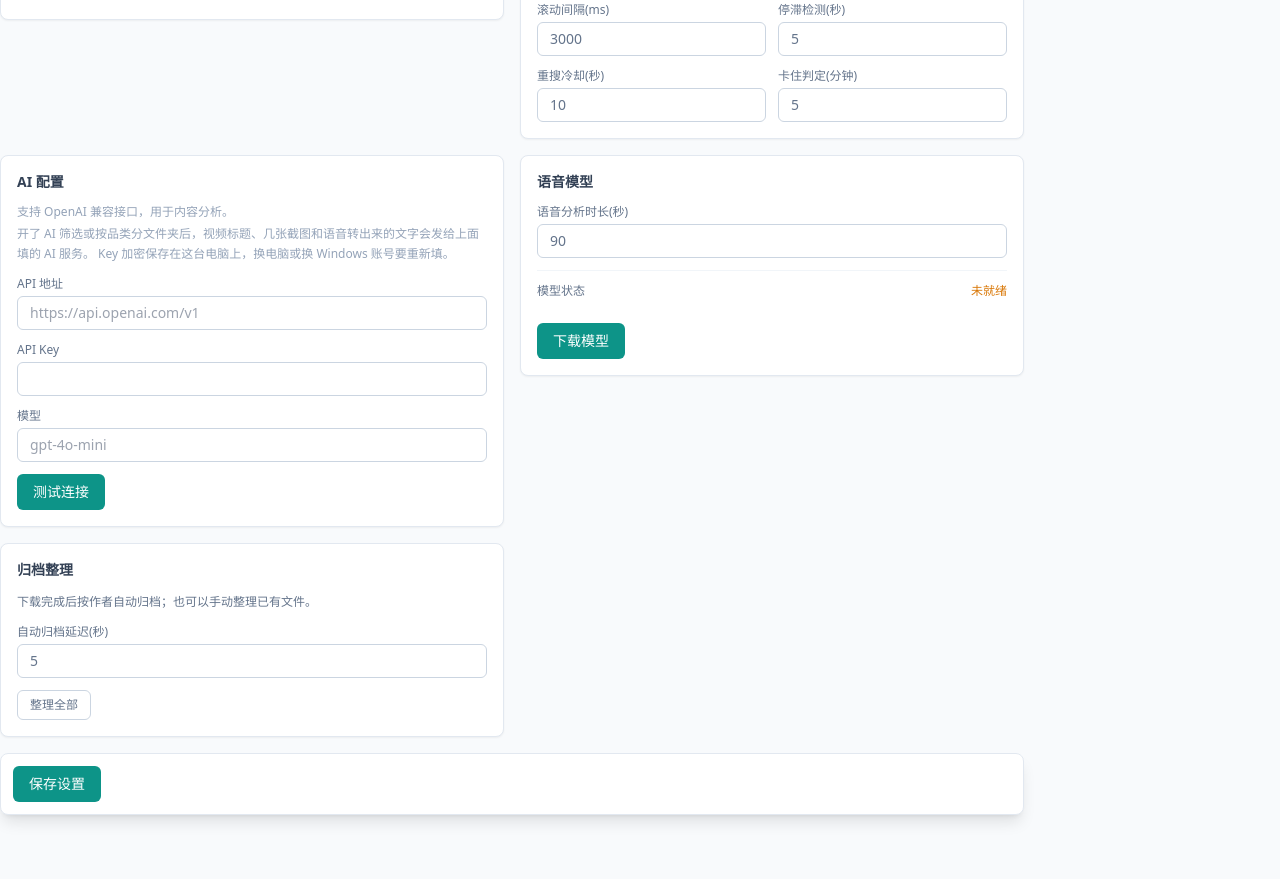
it: SettingsPanel 消息的成功/失败配色 › AI 连接正常 → 用成功色
(page scrolled)
Click the button "测试连接": (61, 492) [17,474,105,510]
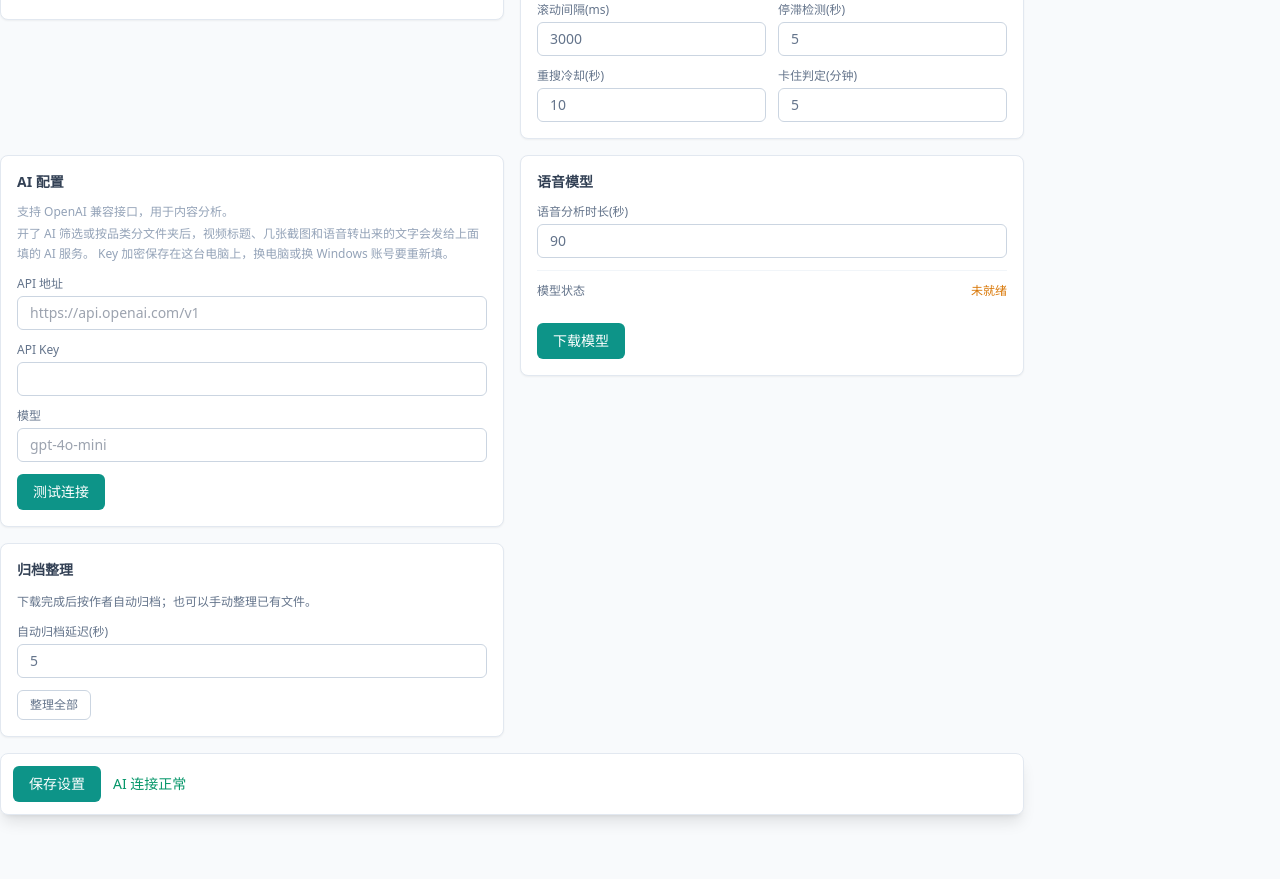
Now the text "AI 连接正常" is shown, box [113,774,186,794]
